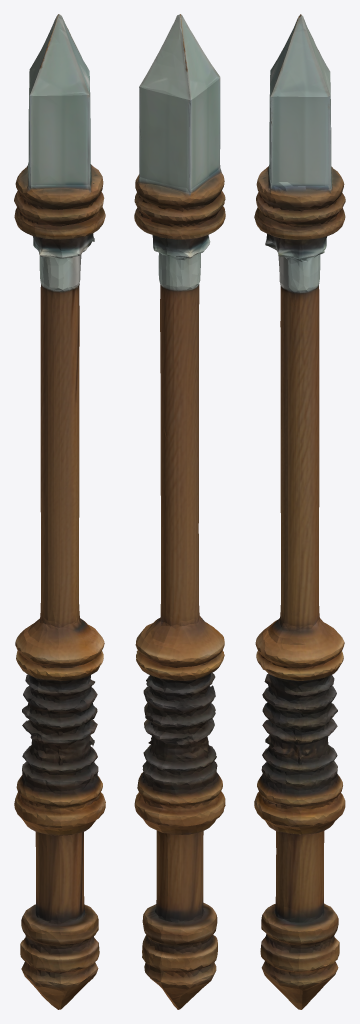
Rendered from simple_wooden_magical_0608174652_texture.fbx.
The picture shows the model from 3 angles, left to right: view 1: azimuth 90°, elevation 25°; view 2: azimuth 150°, elevation 25°; view 3: azimuth 270°, elevation 25°; orthographic projection.
Parts seen in each view (by area): view 1: temp; view 2: temp; view 3: temp.
Part boxes in pixels (x1,y1,x2,y2): temp: [14, 14, 105, 1009]; temp: [134, 14, 225, 1009]; temp: [254, 14, 345, 1009].
Bounding box in the file's own units: 16.38 × 197 × 16.46.
Materials: 1 (1 with a texture image).
